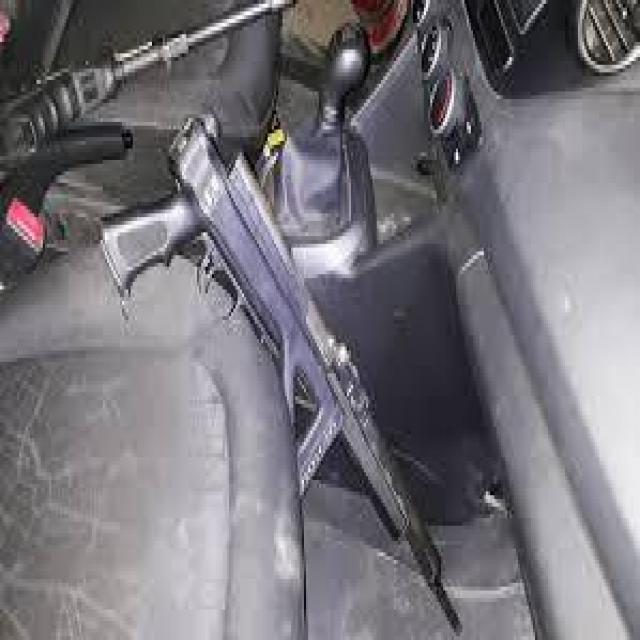weapon: (98, 112, 464, 638)
